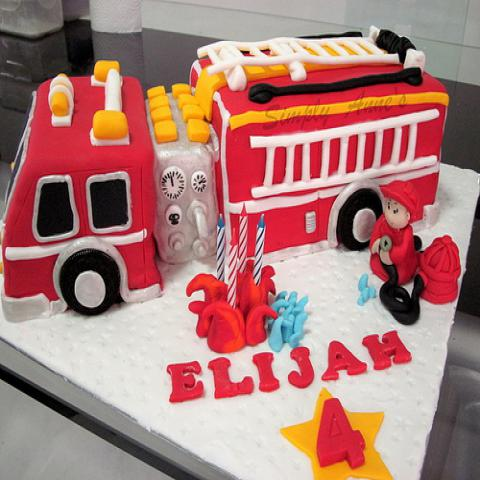truck: (0, 28, 446, 320)
